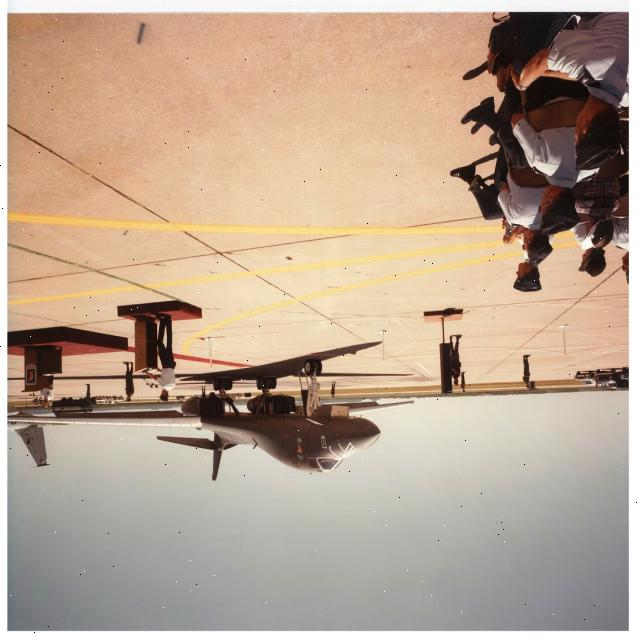B1: (11, 346, 415, 501)
